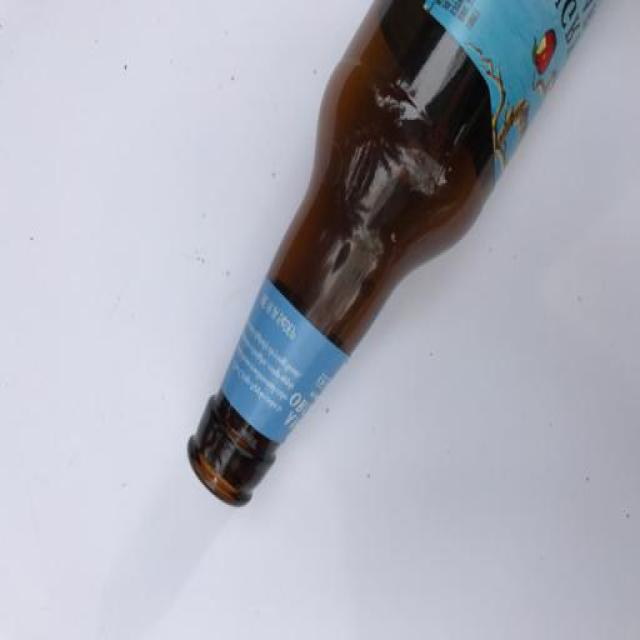glass: (186, 0, 598, 509)
